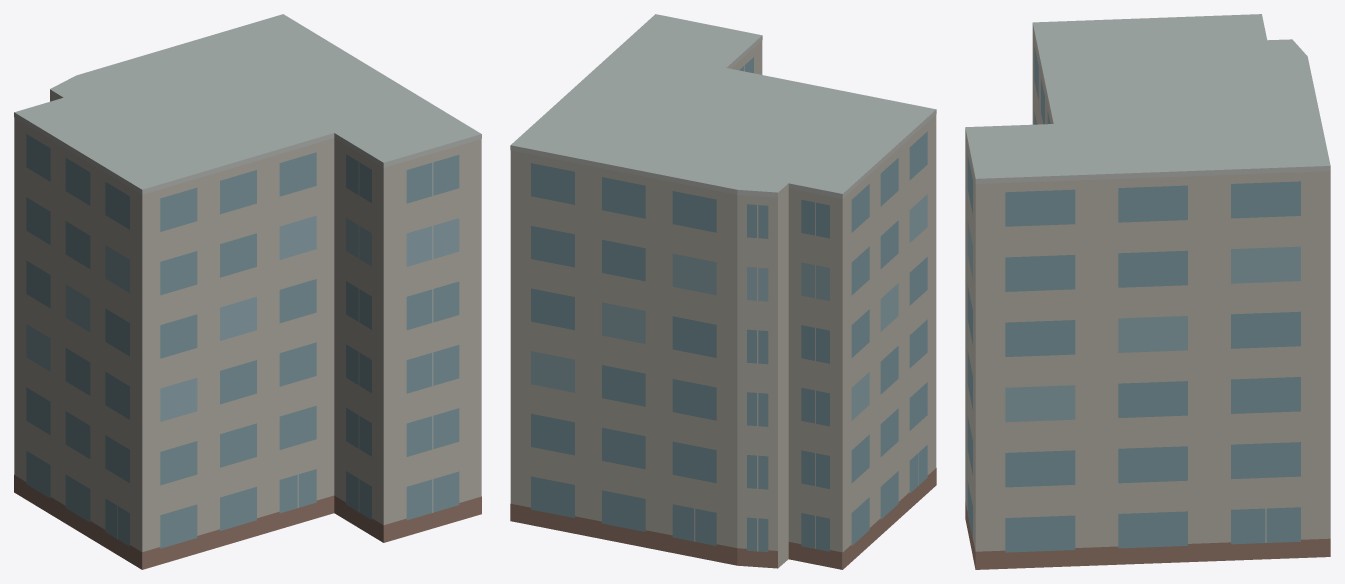
Rendered from survey-upis-33040499.glb.
The picture shows the model from 3 angles, left to right: view 1: azimuth 30°, elevation 25°; view 2: azimuth 150°, elevation 25°; view 3: azimuth 270°, elevation 25°; orthographic projection. The views are drawn at different scales.
Visible parts, largest first — view 1: survey-upis-33040499.tmp; view 2: survey-upis-33040499.tmp; view 3: survey-upis-33040499.tmp.
Part boxes in pixels (left/top/right/bottom): survey-upis-33040499.tmp: left=14, top=14, right=481, bottom=569; survey-upis-33040499.tmp: left=510, top=14, right=936, bottom=569; survey-upis-33040499.tmp: left=965, top=14, right=1330, bottom=569.
Size of the model in its own units: 16.56 by 18.3 by 15.51.
